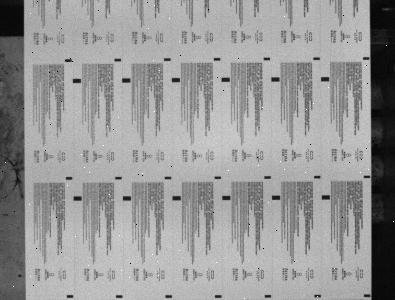backgroundclutter: (18, 274, 22, 277)
qblock: (171, 77, 180, 82), (72, 78, 81, 83), (271, 77, 280, 82), (221, 77, 230, 82), (222, 195, 231, 200), (73, 196, 82, 201), (122, 78, 130, 83), (272, 195, 280, 200), (172, 196, 181, 200), (321, 195, 330, 199), (321, 77, 329, 81), (123, 196, 131, 200)
smallqblock: (264, 294, 272, 298), (214, 57, 221, 61), (115, 295, 123, 298), (66, 295, 74, 298), (263, 57, 271, 60), (214, 176, 222, 179), (65, 177, 73, 180), (164, 176, 172, 179), (65, 59, 72, 62), (164, 58, 171, 61), (165, 295, 172, 298), (114, 58, 121, 61), (215, 295, 222, 298), (314, 294, 321, 297), (313, 57, 320, 60), (115, 176, 122, 179), (264, 176, 271, 179), (363, 57, 370, 60), (314, 175, 321, 178), (364, 294, 371, 297), (364, 175, 371, 178)
